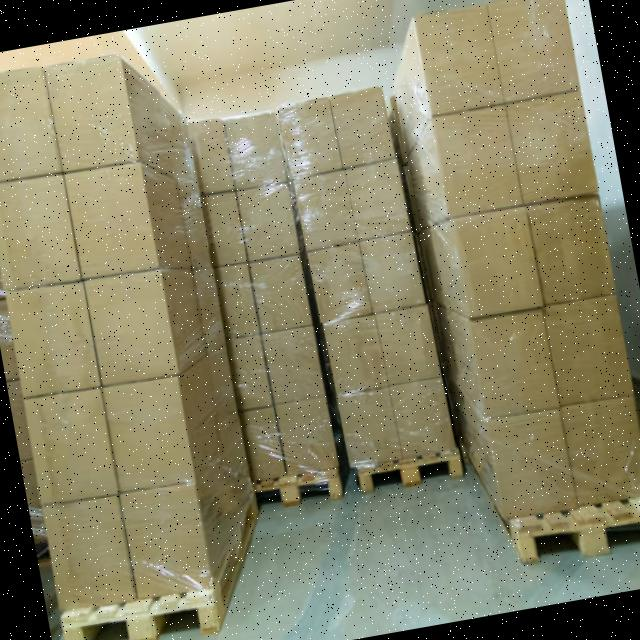Wooden-Pallets: (508, 503, 640, 579), (349, 436, 477, 514), (53, 588, 229, 640), (245, 464, 348, 519)
